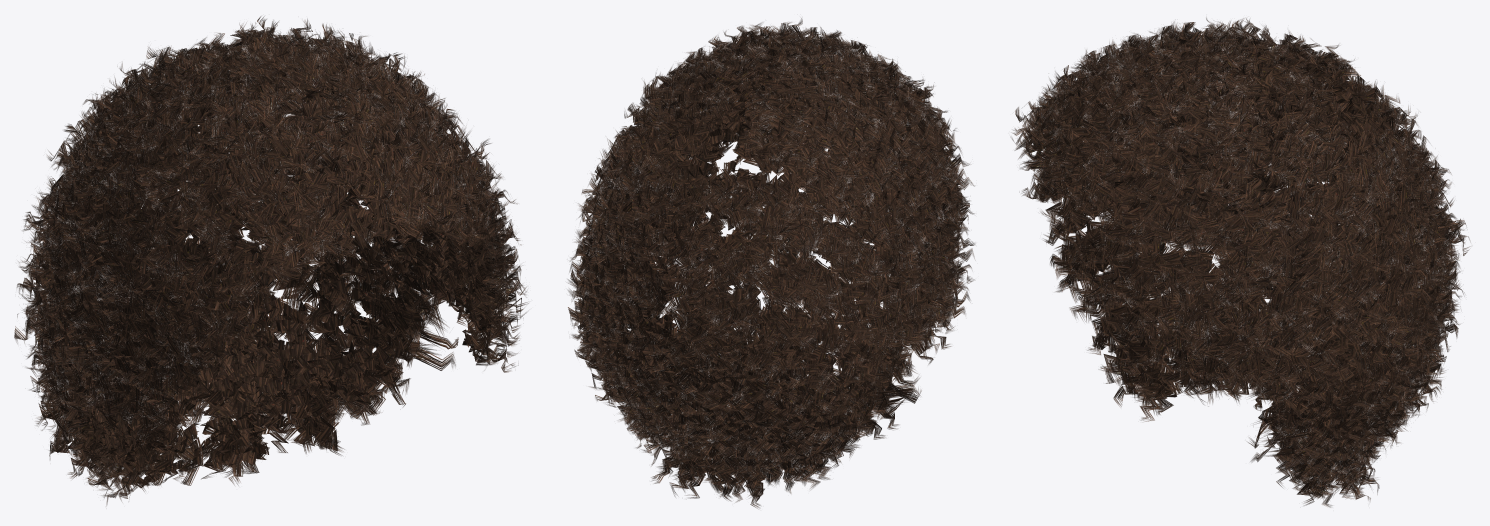
Rendered from court_boucle.glb.
3 renders of one model, left to right at view 1: azimuth 30°, elevation 25°; view 2: azimuth 150°, elevation 25°; view 3: azimuth 270°, elevation 25°, orthographic. The views are drawn at different scales.
Visible parts, largest first — view 1: MH_coiffure_court_boucle; view 2: MH_coiffure_court_boucle; view 3: MH_coiffure_court_boucle.
Boxes of the visible parts, bbox=[...] form: MH_coiffure_court_boucle: bbox=[14, 16, 528, 505]; MH_coiffure_court_boucle: bbox=[568, 18, 974, 508]; MH_coiffure_court_boucle: bbox=[1011, 18, 1470, 507].
Size of the model in its own units: 0.191 by 0.2171 by 0.2032.
Materials: 1 (1 with a texture image).
